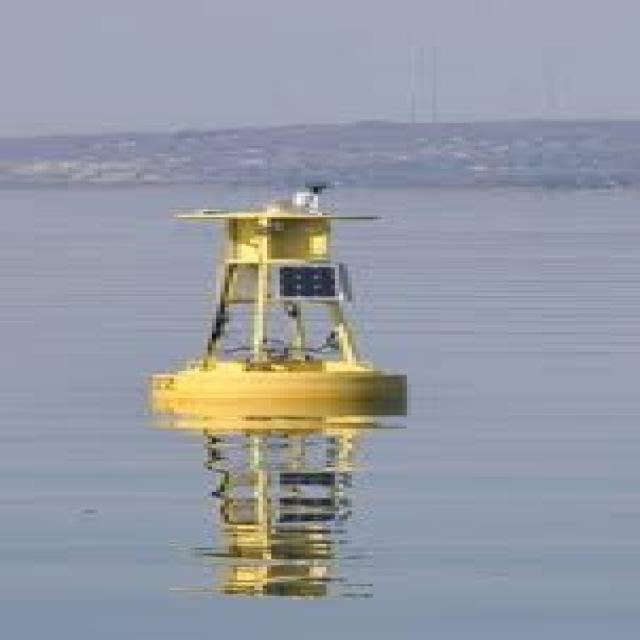buoy: (160, 177, 421, 438)
